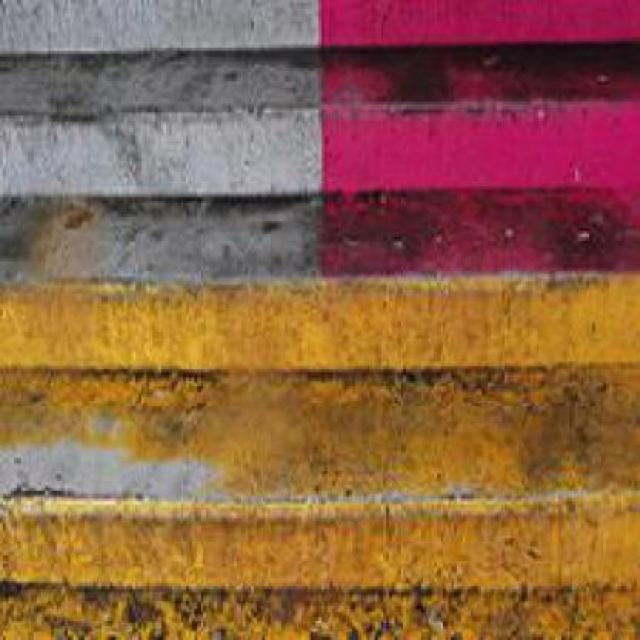Stairs: (10, 12, 630, 616)
